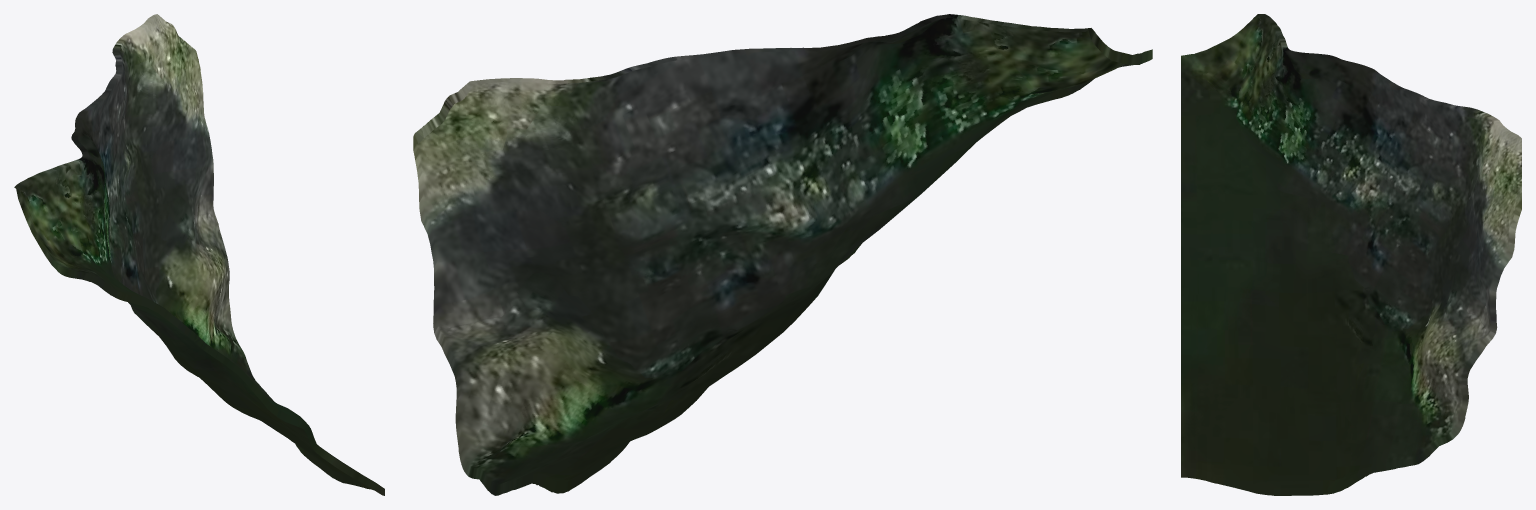
The model's file is z20-167755-405192-h0-yup-uvflip-v3-world.glb.
The picture shows the model from 3 angles, left to right: view 1: azimuth 30°, elevation 25°; view 2: azimuth 150°, elevation 25°; view 3: azimuth 270°, elevation 25°; orthographic projection. The views are drawn at different scales.
Size of the model in its own units: 30.16 by 33.24 by 30.32.
1 material, 1 textured.
